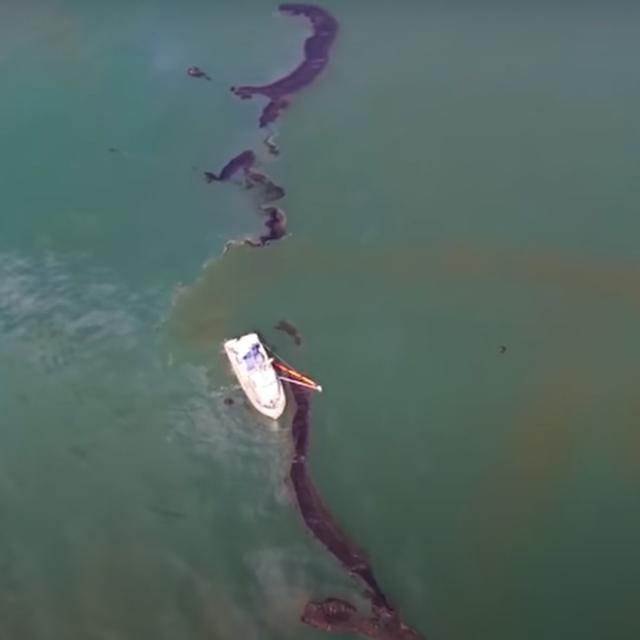truecolor: (290, 385, 425, 640), (231, 3, 339, 126), (204, 150, 287, 246), (187, 66, 212, 80)
